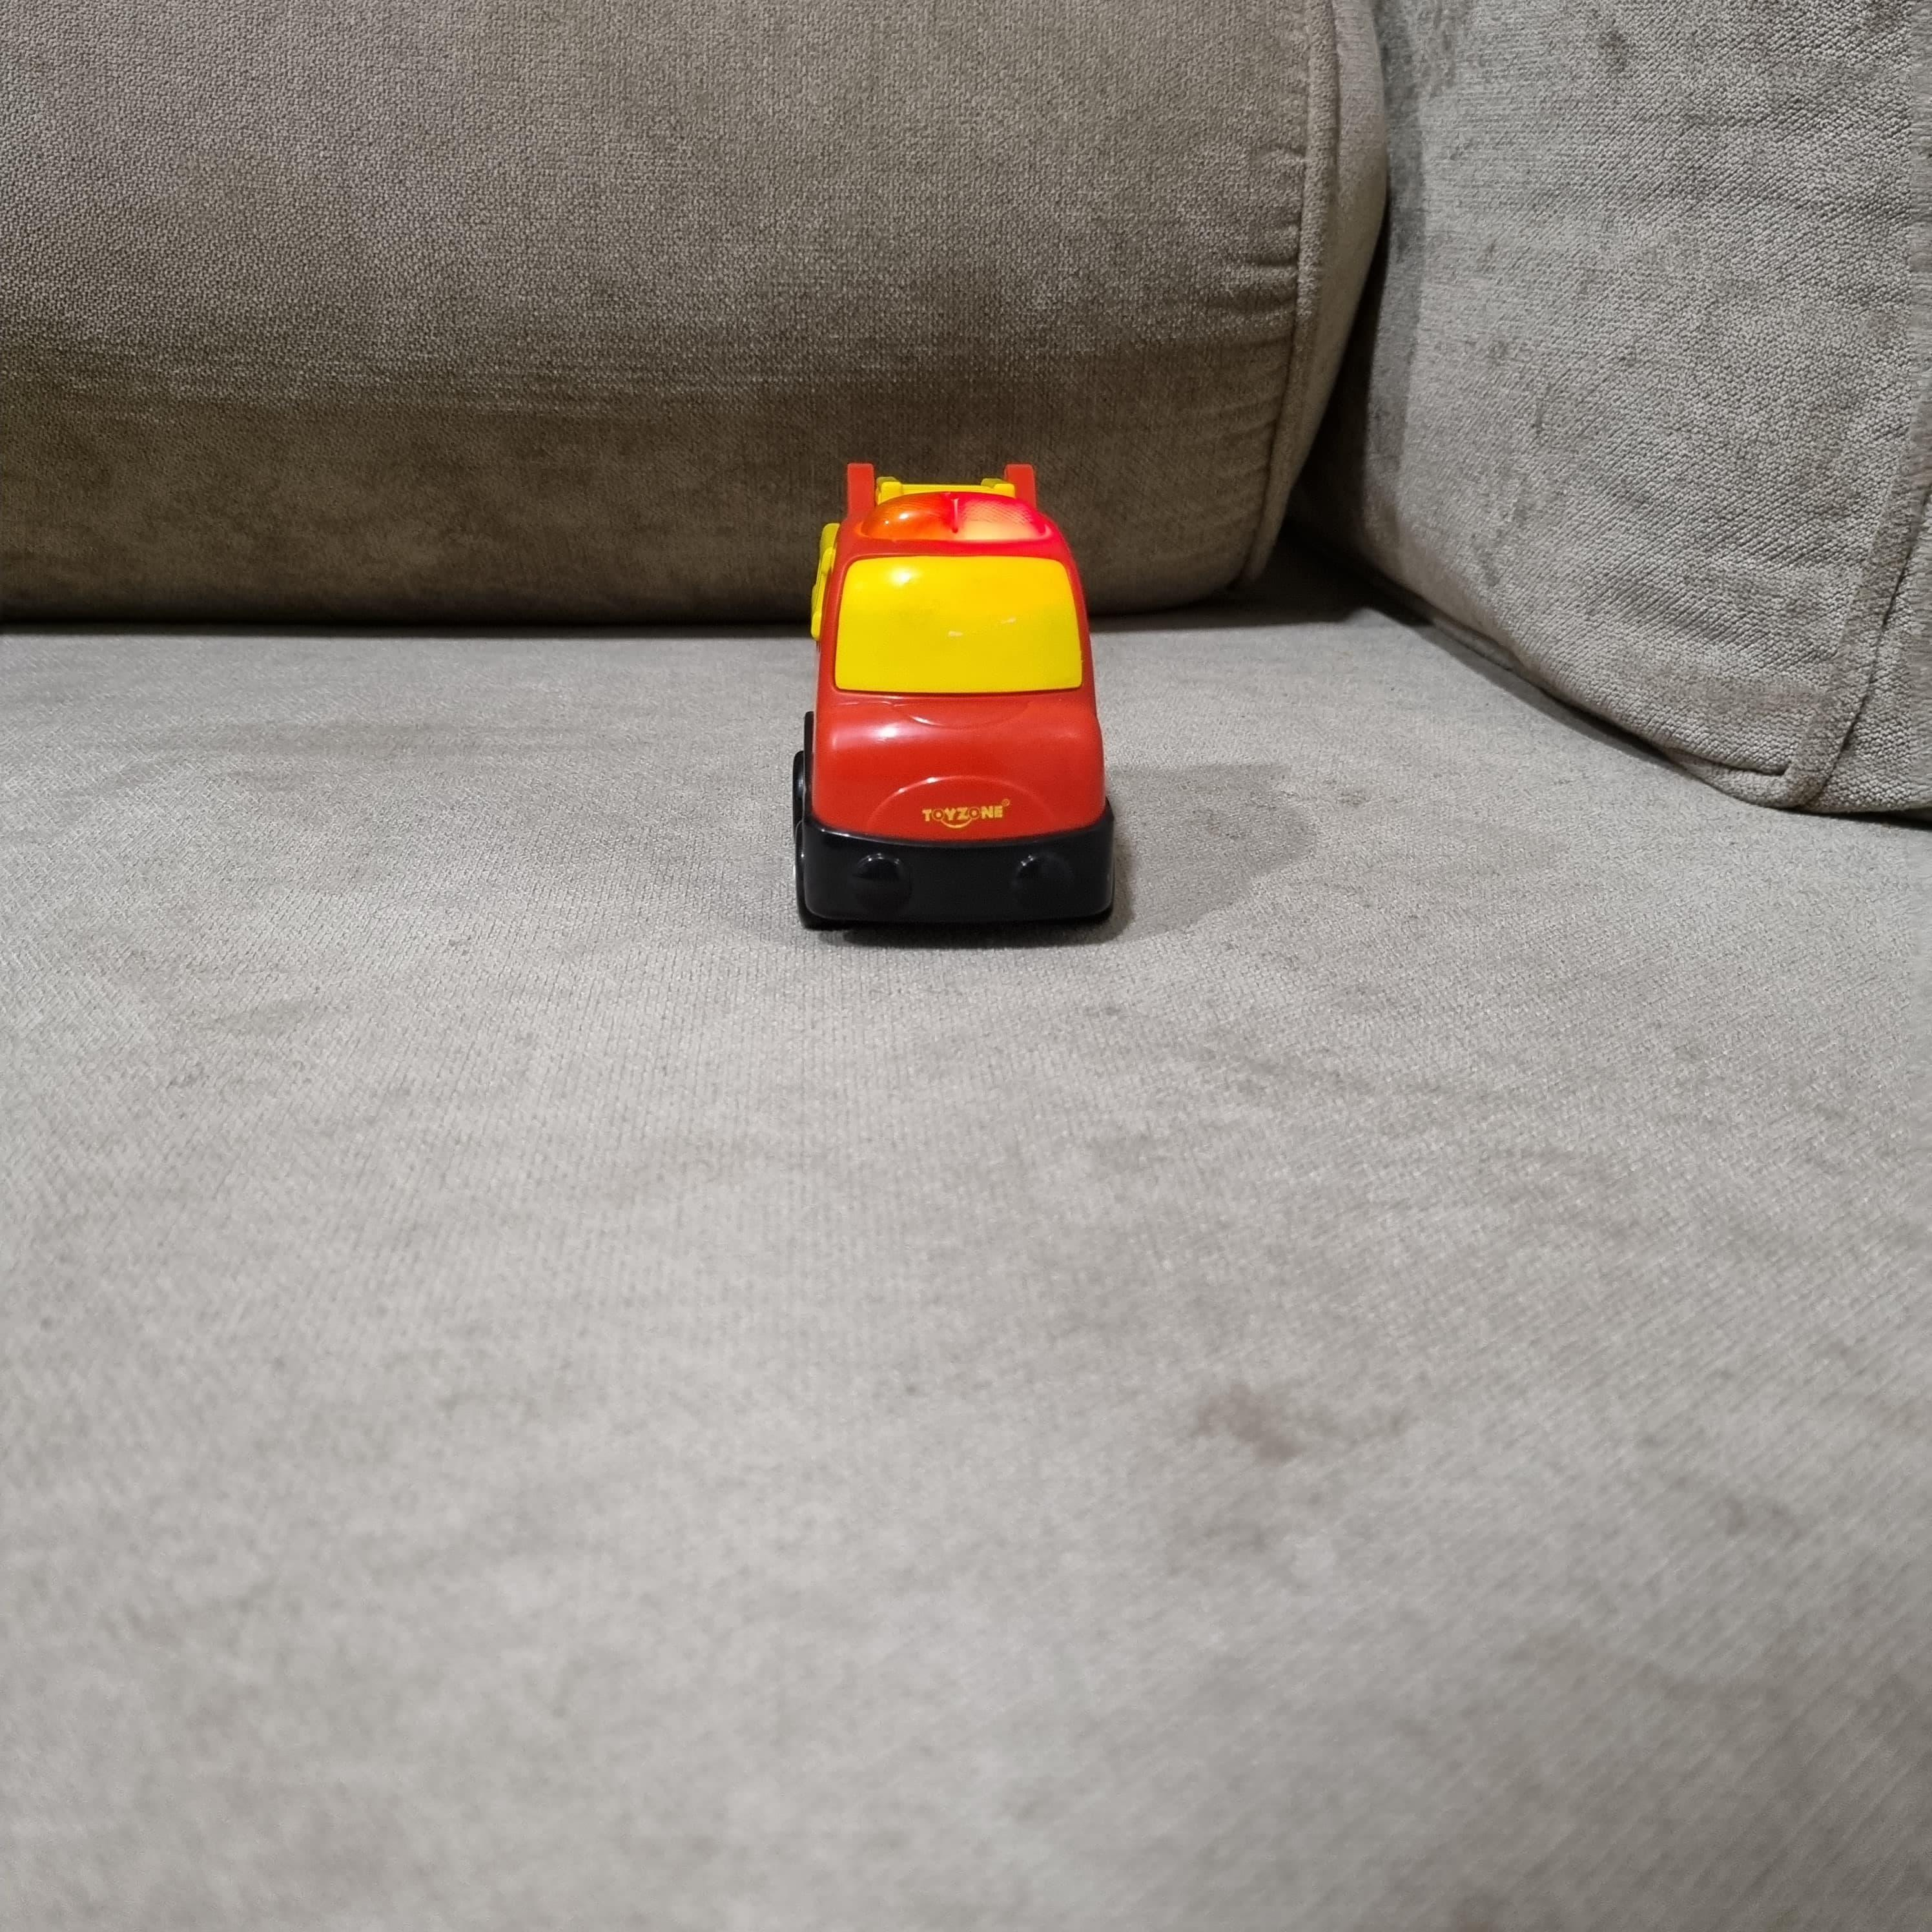firetruck_on: (794, 460, 1116, 941)
